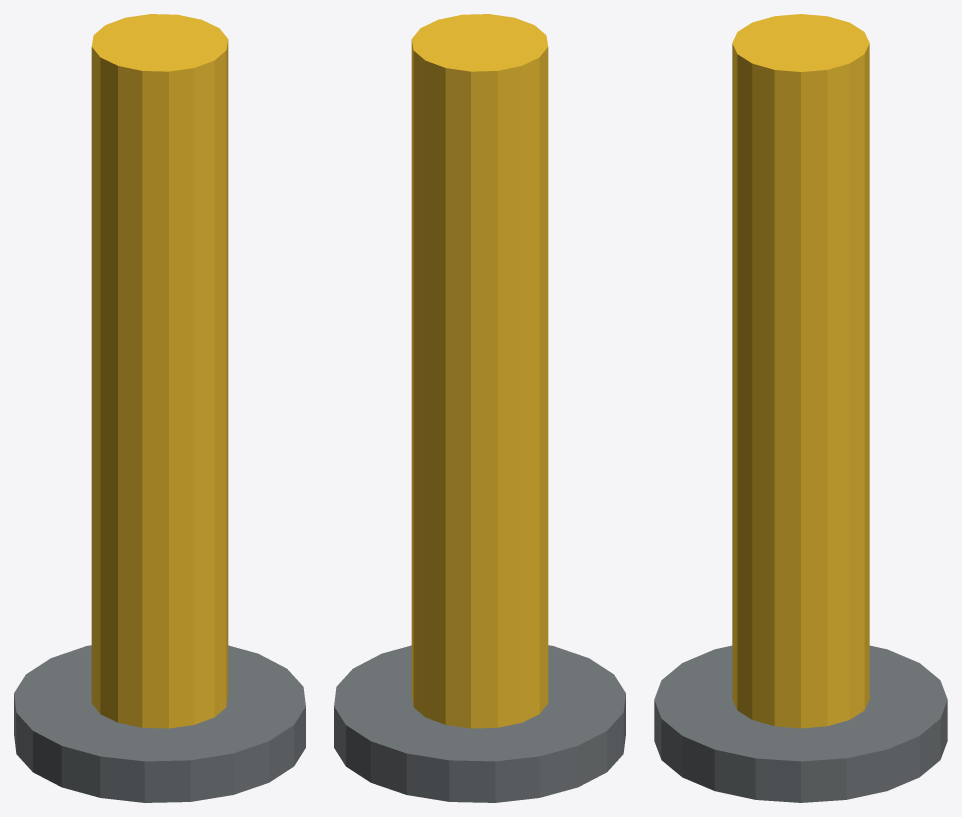
File: SM_Factory_Bollard.fbx
3 renders of one model, left to right at view 1: azimuth 30°, elevation 25°; view 2: azimuth 150°, elevation 25°; view 3: azimuth 270°, elevation 25°, orthographic.
Parts seen in each view (by area): view 1: Bollard_Post, Bollard_Foot; view 2: Bollard_Post, Bollard_Foot; view 3: Bollard_Post, Bollard_Foot.
Part boxes in pixels (x1=…): Bollard_Post: x1=91, y1=14, x2=228, y2=728; Bollard_Foot: x1=14, y1=645, x2=305, y2=802; Bollard_Post: x1=411, y1=14, x2=548, y2=728; Bollard_Foot: x1=334, y1=645, x2=625, y2=802; Bollard_Post: x1=732, y1=14, x2=869, y2=728; Bollard_Foot: x1=654, y1=645, x2=947, y2=802.
Size of the model in its own units: 0.32 by 0.32 by 0.84.
